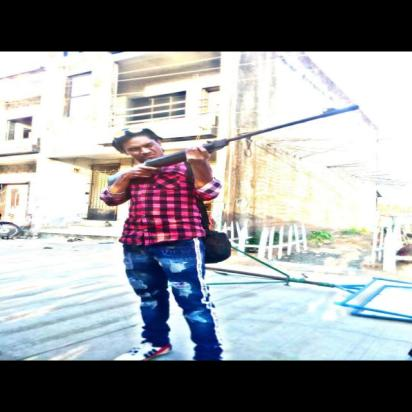Gun: (106, 104, 362, 187)
